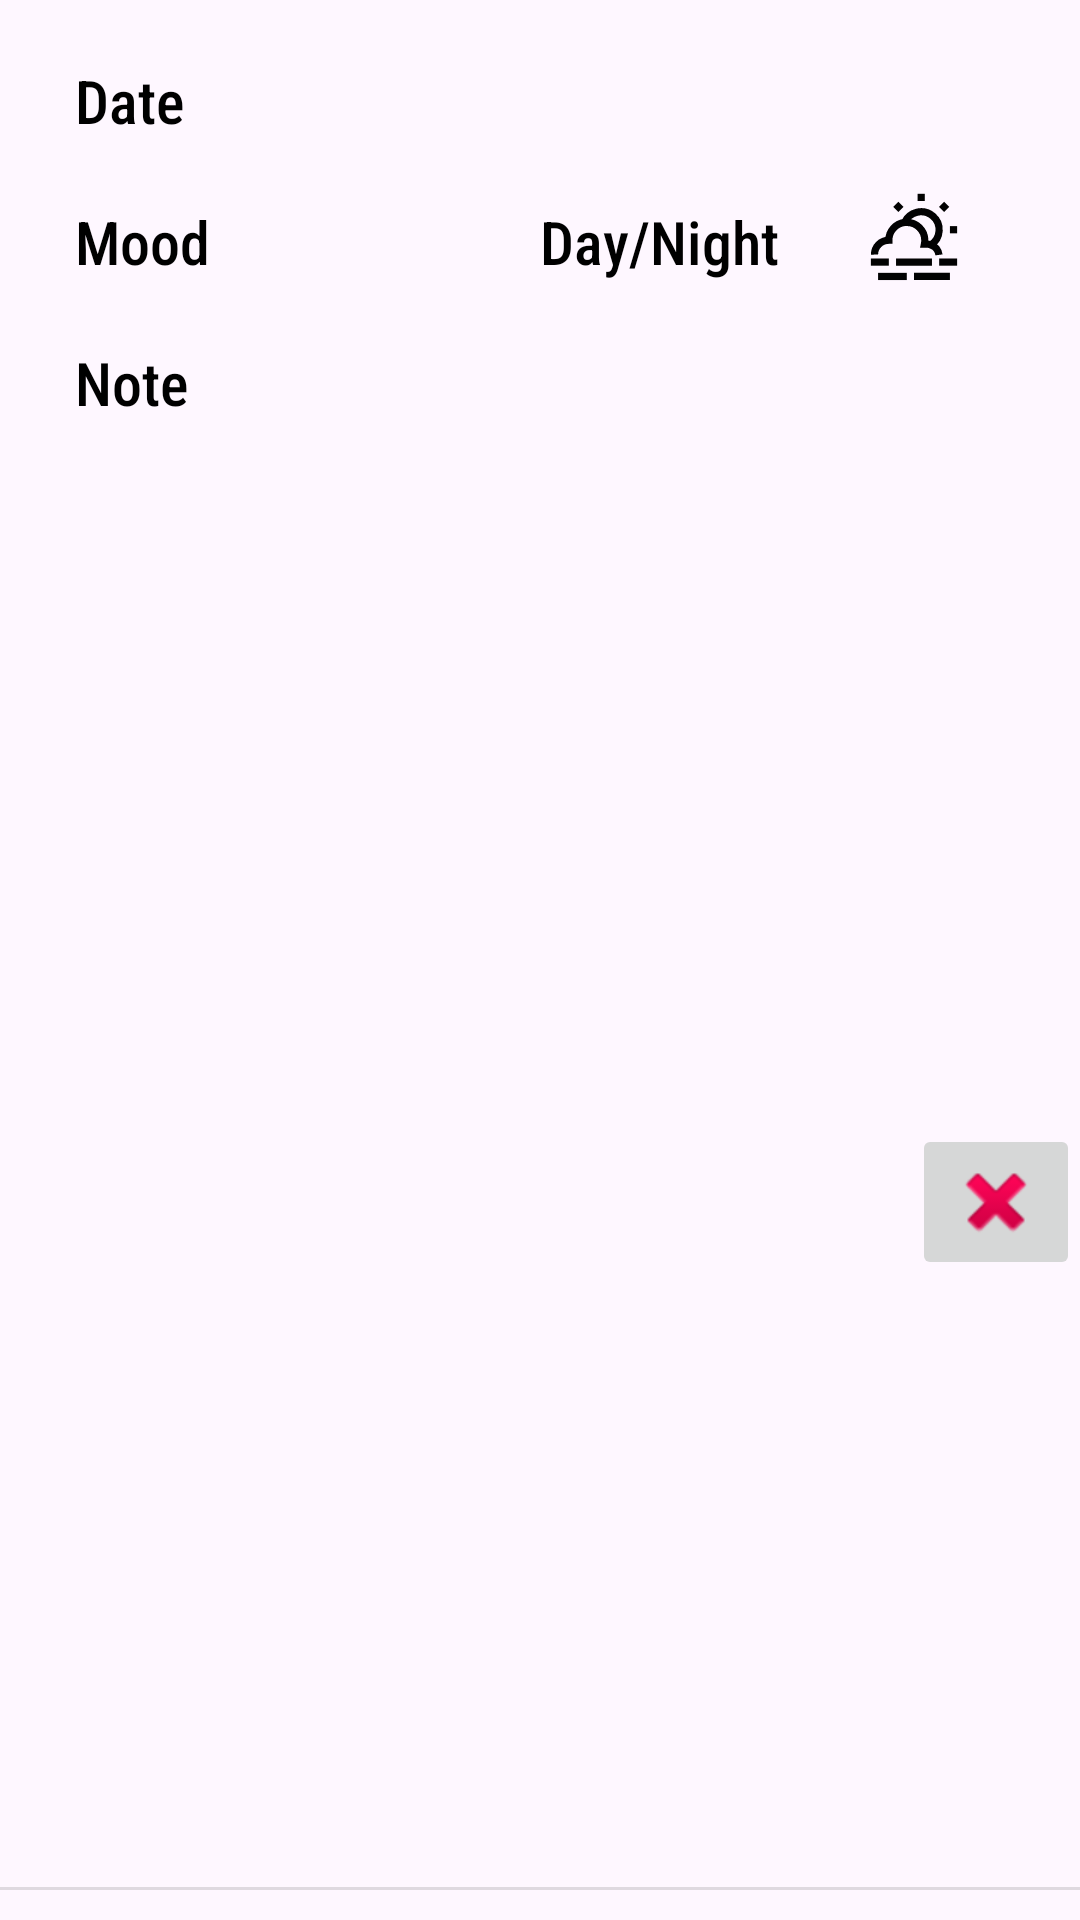

Icons on this 1080*1920 Android screen, each with its box as (x1, y1, x2, y2):
delete: (924, 1142, 1068, 1262)
